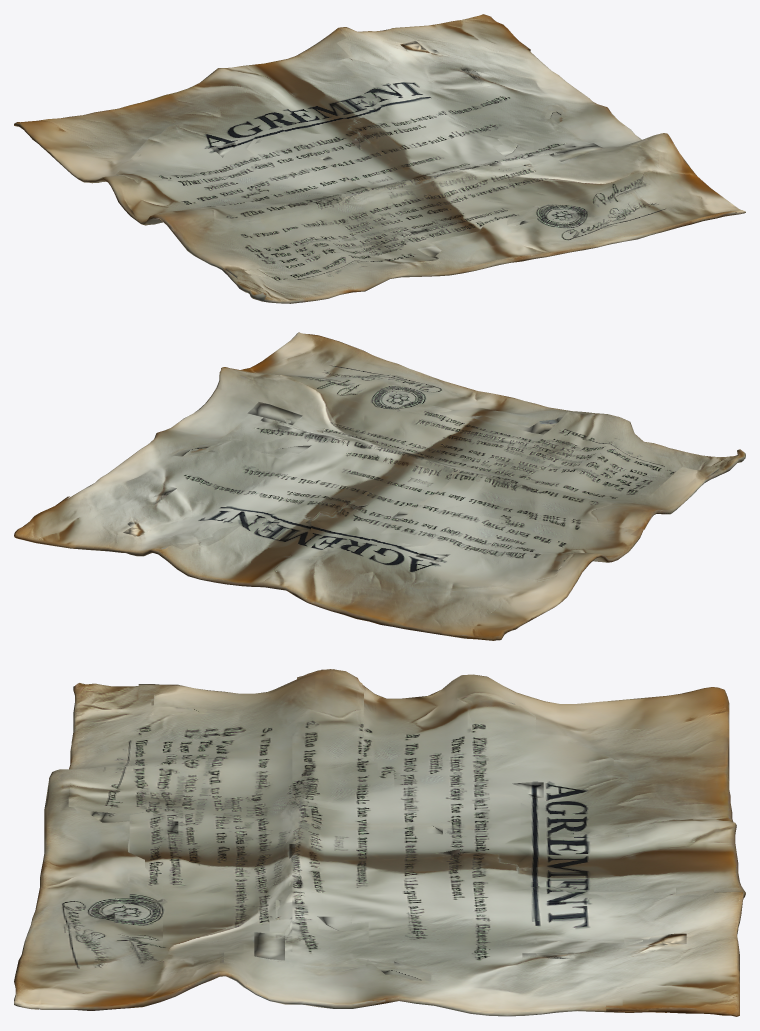
File: ObjetoAcuerdos.fbx
The picture shows the model from 3 angles, top to bottom: view 1: azimuth 30°, elevation 25°; view 2: azimuth 150°, elevation 25°; view 3: azimuth 270°, elevation 25°; orthographic projection. The views are drawn at different scales.
Visible parts, largest first — view 1: Mesh_0; view 2: Mesh_0; view 3: Mesh_0.
Boxes of the visible parts, bbox=[...] form: Mesh_0: bbox=[14, 14, 745, 303]; Mesh_0: bbox=[14, 332, 745, 640]; Mesh_0: bbox=[14, 669, 745, 1016].
Size of the model in its own units: 191 by 12.13 by 188.
Materials: 1 (1 with a texture image).
